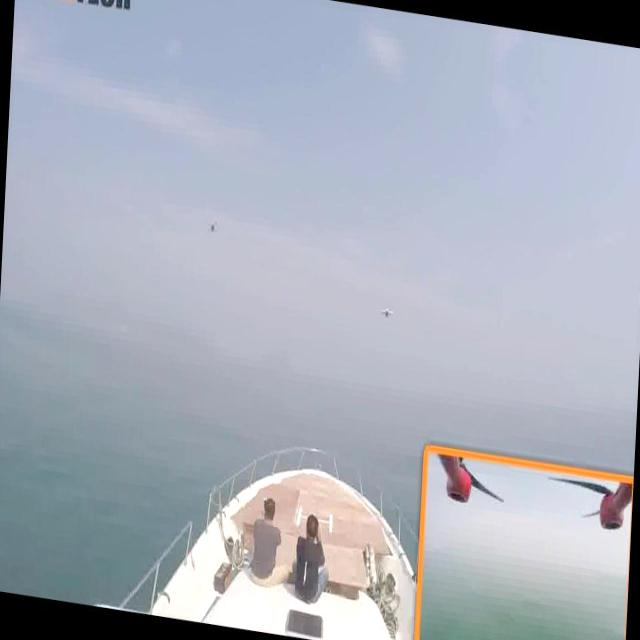drone: (378, 305, 396, 322)
